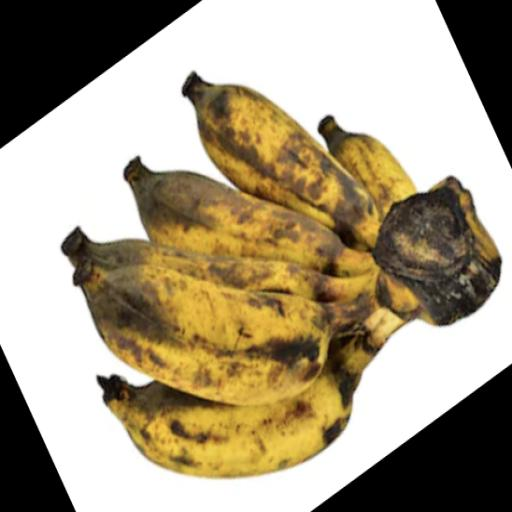banana-overripe: (22, 2, 489, 489)
